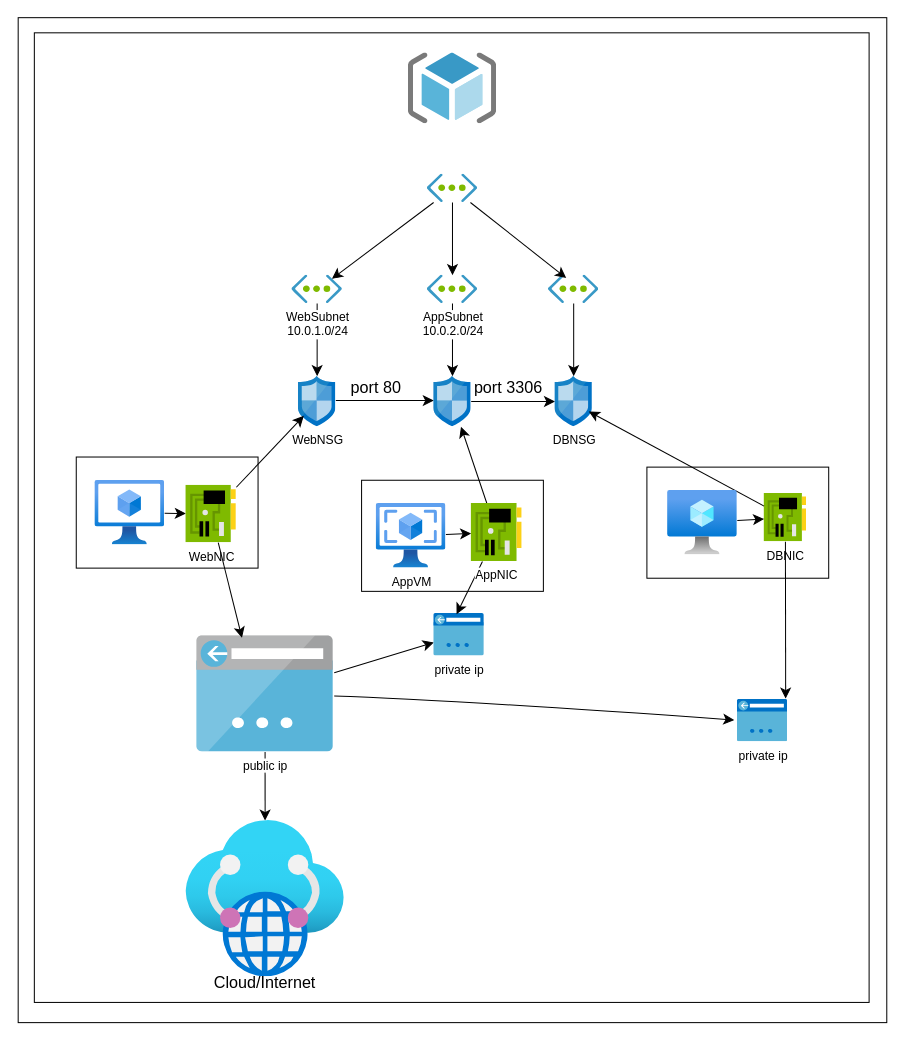
This 904x1040 diagram has some shape labels left out. Each missing label, with the box of its shape:
AppNSG: (433, 376, 471, 426)
DBSubnet 10.0.3.0/24: (548, 275, 598, 303)
DBVM: (667, 490, 737, 554)
Group1VNet 10.0.0.0/16: (427, 174, 477, 202)
Resource Group: (408, 53, 496, 123)
WebVM: (94, 480, 164, 544)
